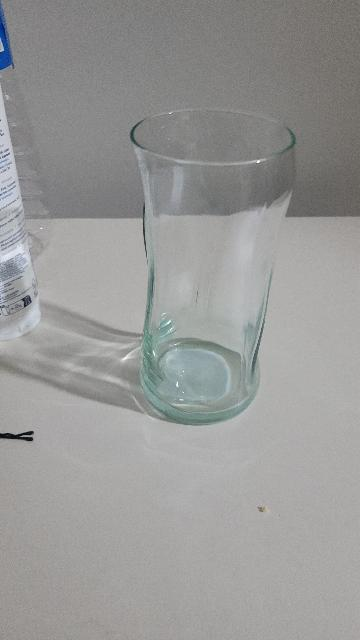Cam: (122, 101, 302, 431)
